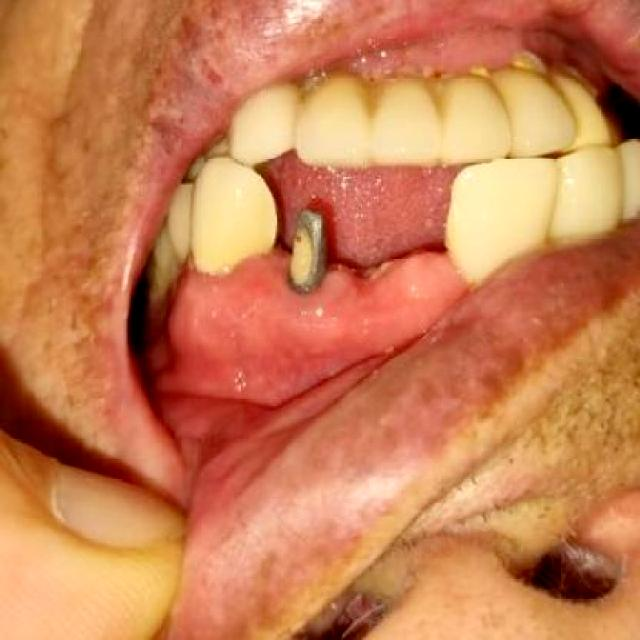Plaque: (189, 253, 238, 275), (315, 74, 381, 84), (384, 73, 431, 84), (442, 74, 466, 81)
